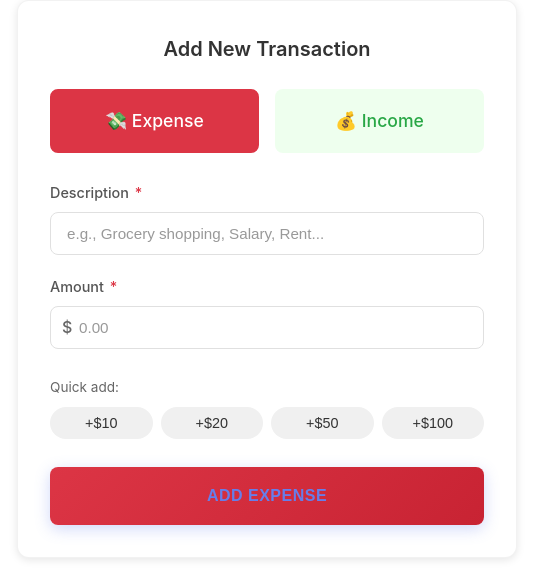
Test: AddTransaction Component › quick add buttons work correctly
Click the button "+$10" at {"x": 101, "y": 423}, box [50, 407, 152, 439]
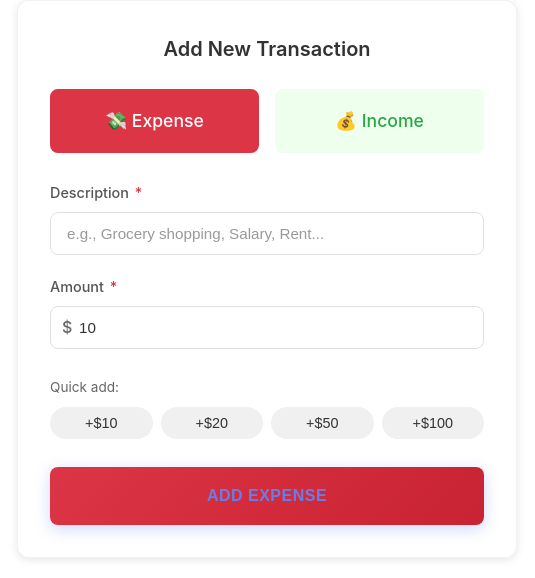
Result: the number field labelled "Amount *" holds "10" at [50, 306, 484, 349]
Click the button "+$50" at {"x": 322, "y": 423}, box [271, 407, 374, 439]
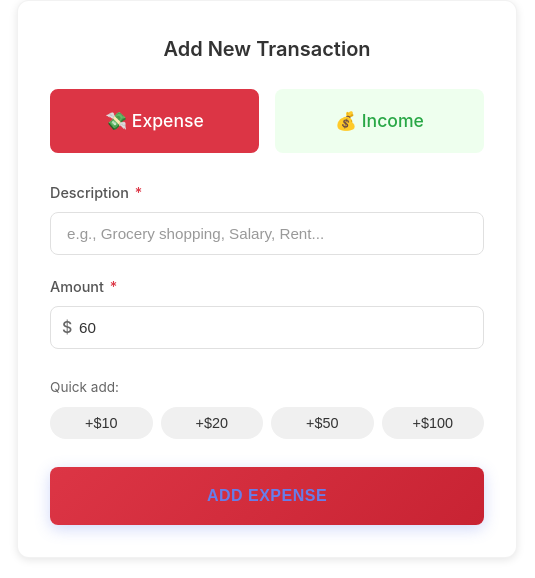
Result: the number field labelled "Amount *" holds "60" at [50, 306, 484, 349]
